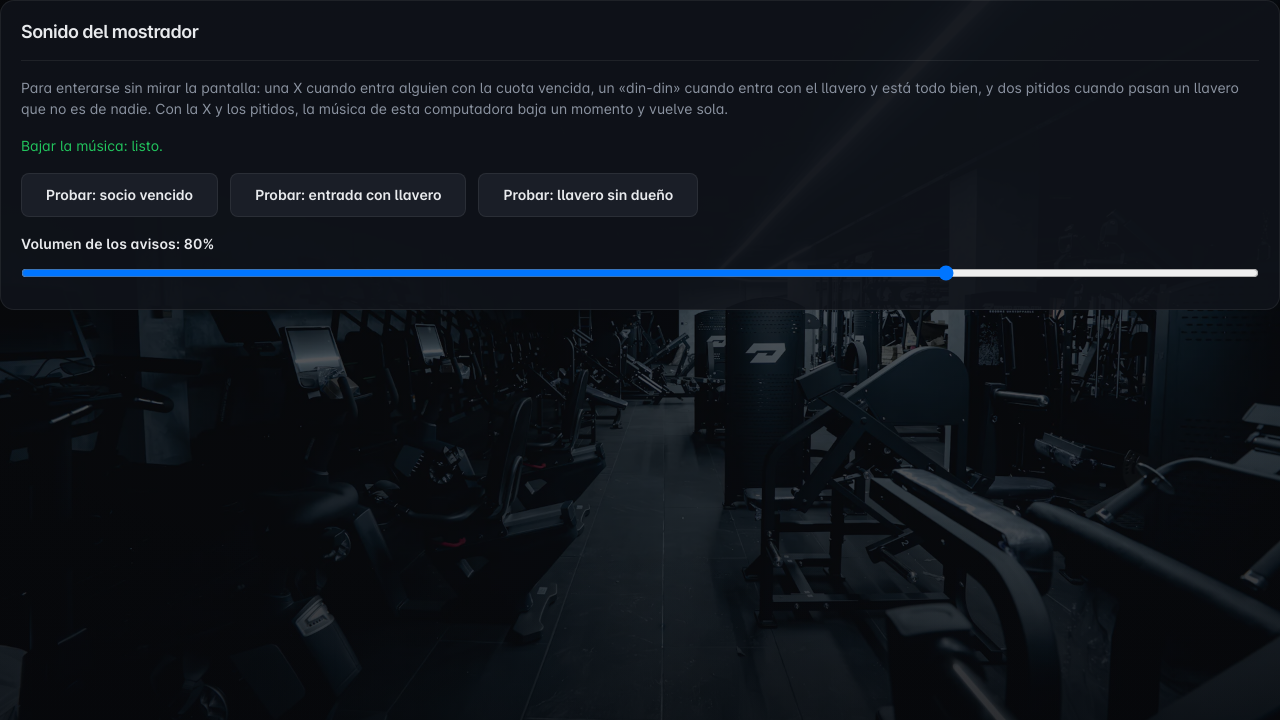
Scenario: ⭐ probar los avisos › el botón del vencido suena y dice qué pasó con la música
This screenshot has width=1280, height=720.
Click the button "Probar: socio vencido".
click(120, 195)  # box [21, 173, 218, 217]
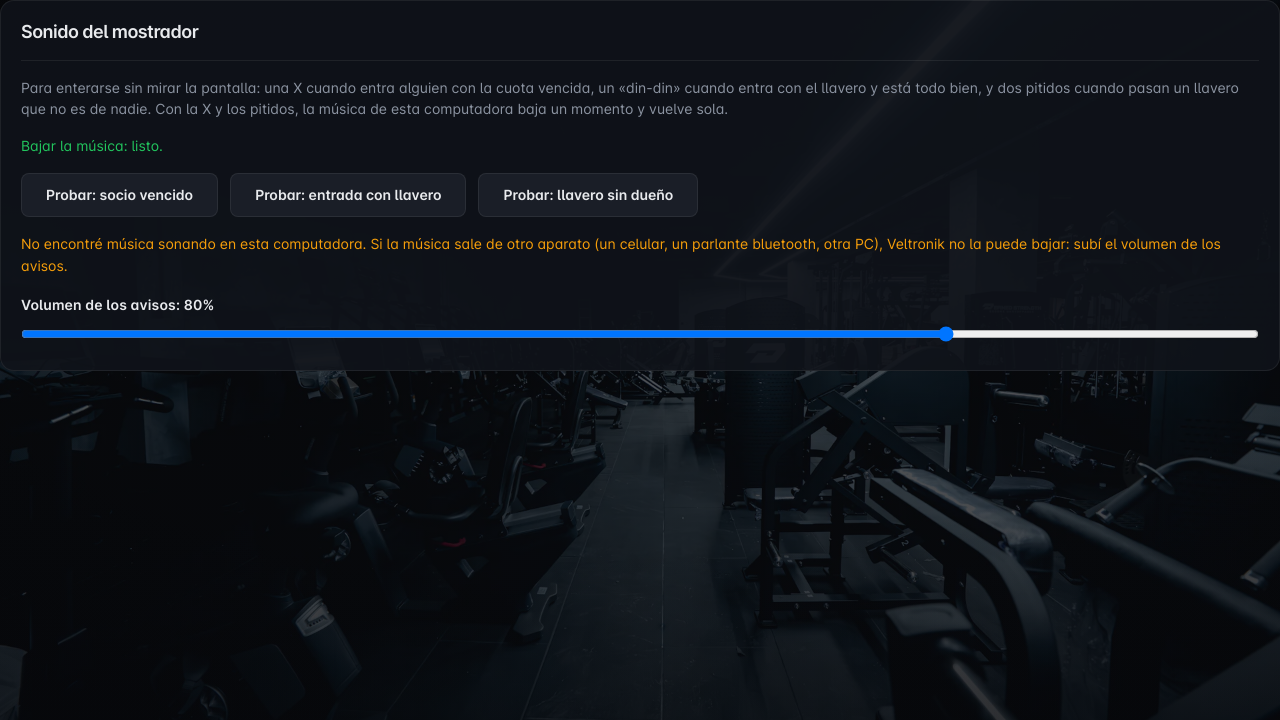
Expected: the text "No encontré música sonando" is shown, [21, 235, 1221, 274]
